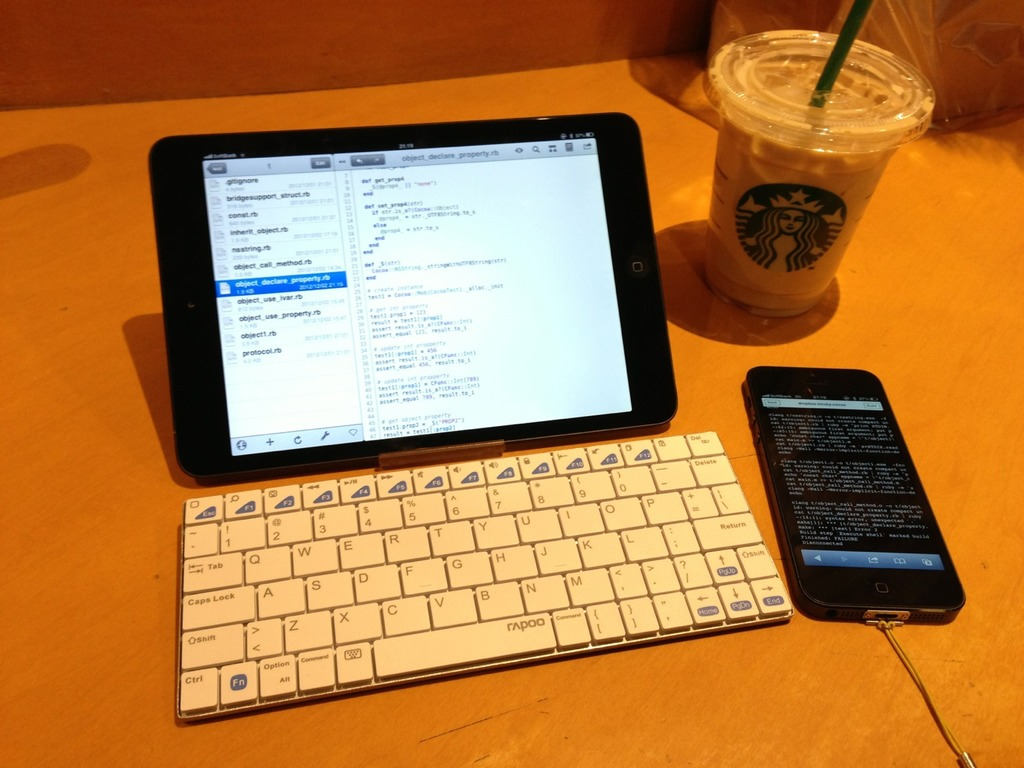mobile phone: (746, 359, 968, 626)
